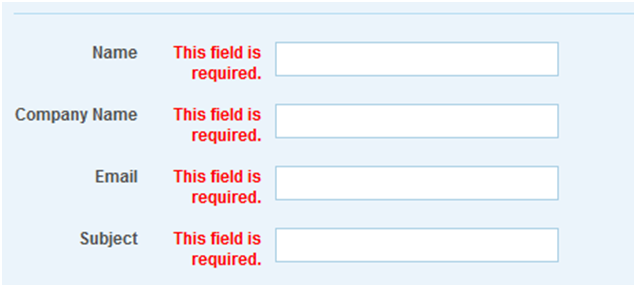error_message: (176, 43, 262, 82), (173, 229, 261, 267), (172, 169, 263, 205), (174, 108, 262, 143)
